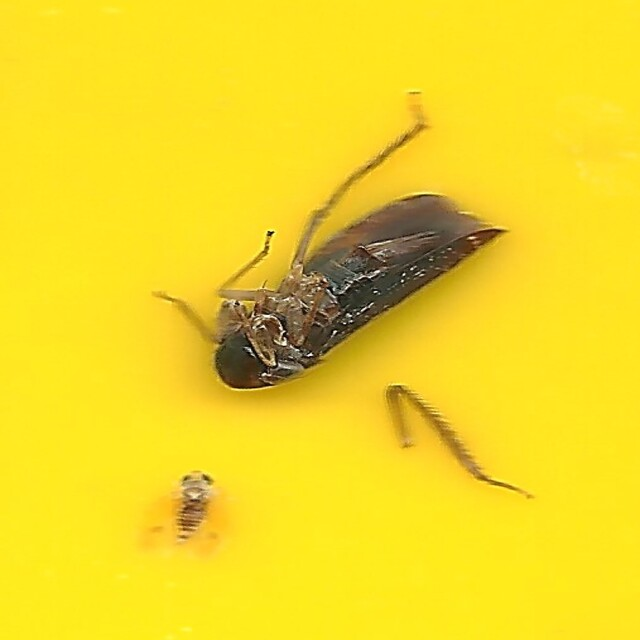Hemiptera: (158, 86, 514, 390), (126, 465, 235, 554)
